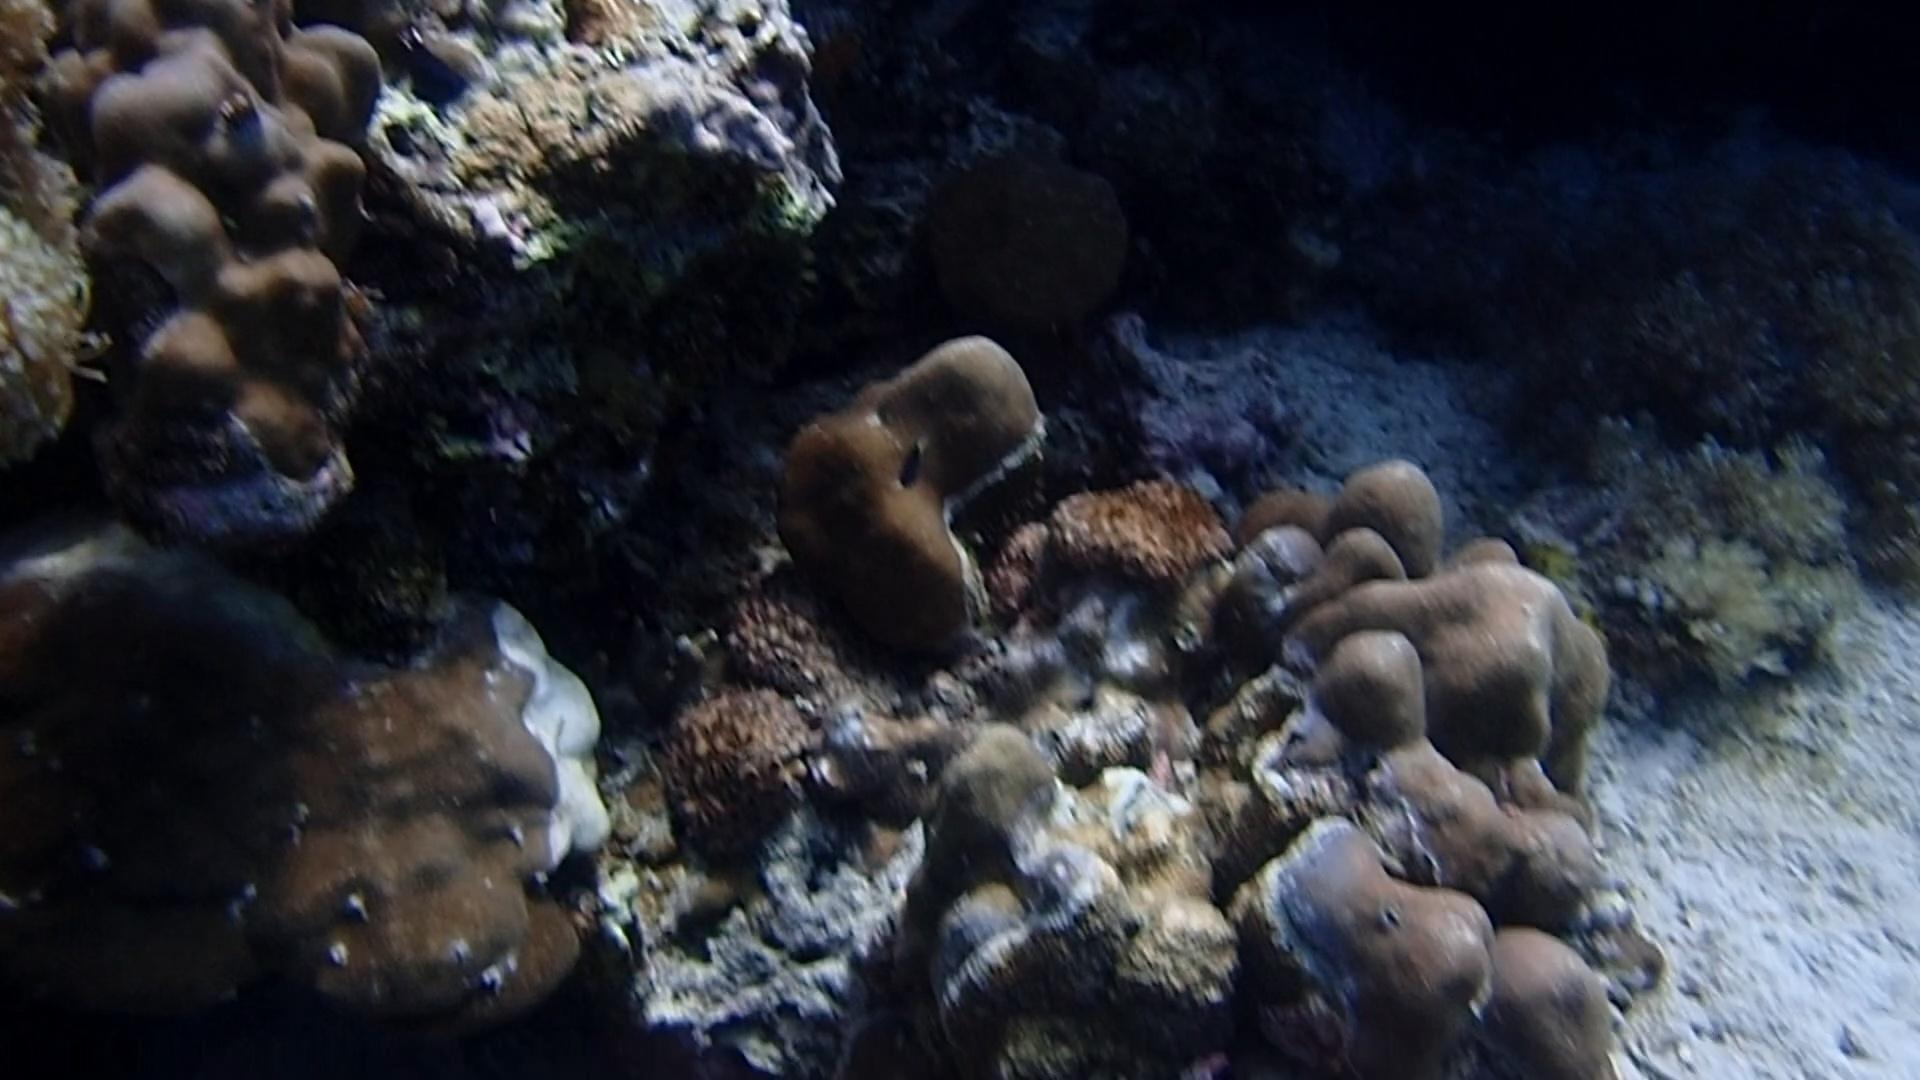Dark Fish: (386, 20, 479, 123)
Yellow Tail: (881, 431, 942, 506)
